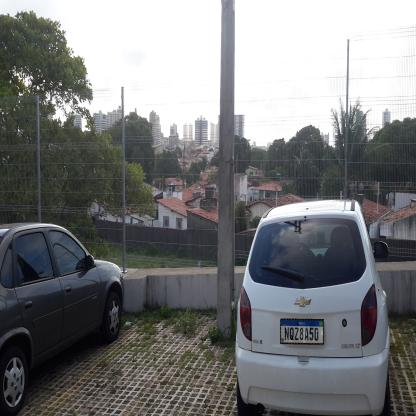PlacaM: (280, 318, 324, 344)
